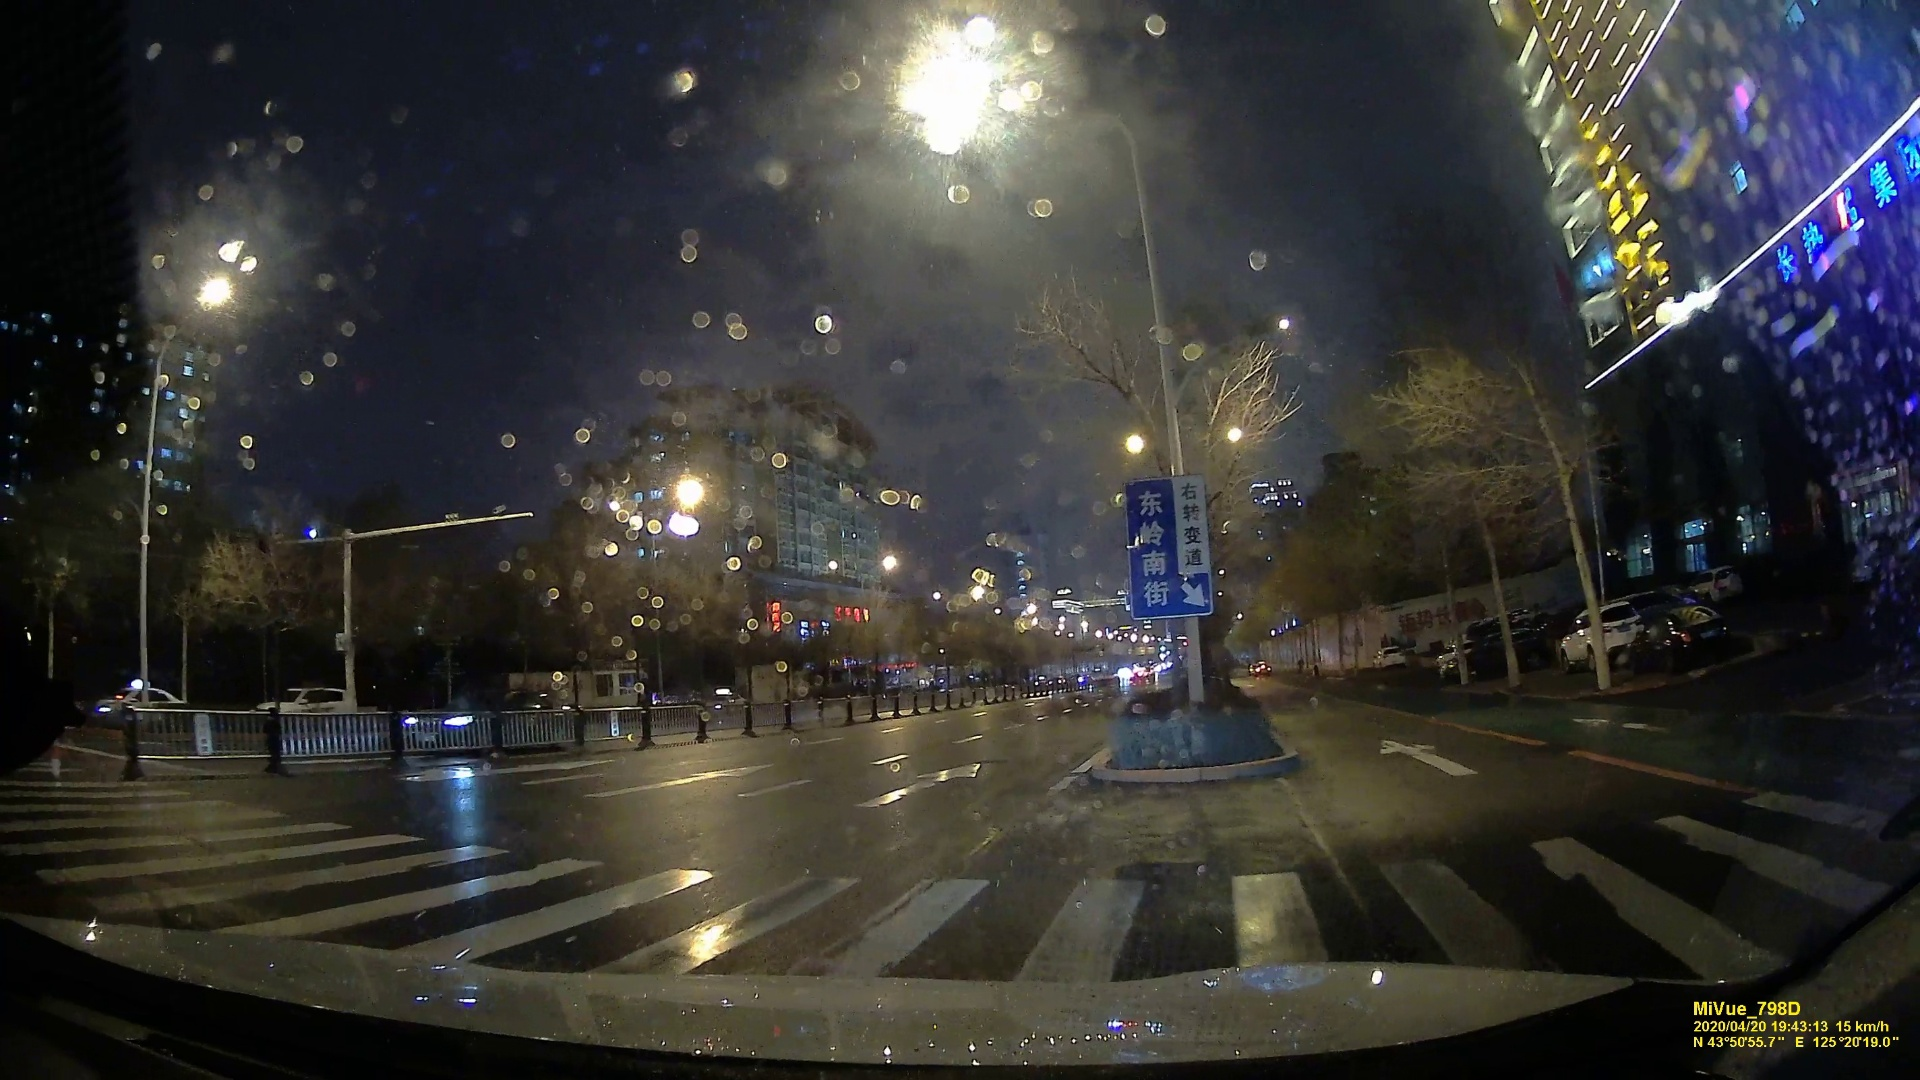traffic_sign: (1127, 473, 1204, 615)
vehicle: (410, 682, 578, 758), (1557, 603, 1646, 673), (1371, 646, 1406, 673), (1251, 662, 1274, 676)
